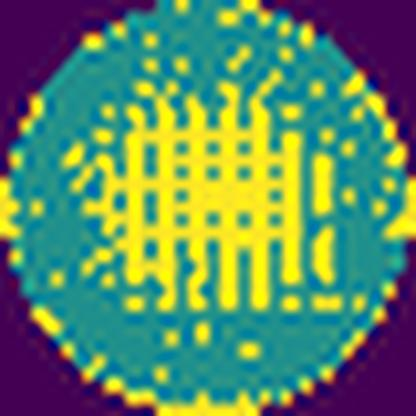Center: (84, 81, 336, 312)
